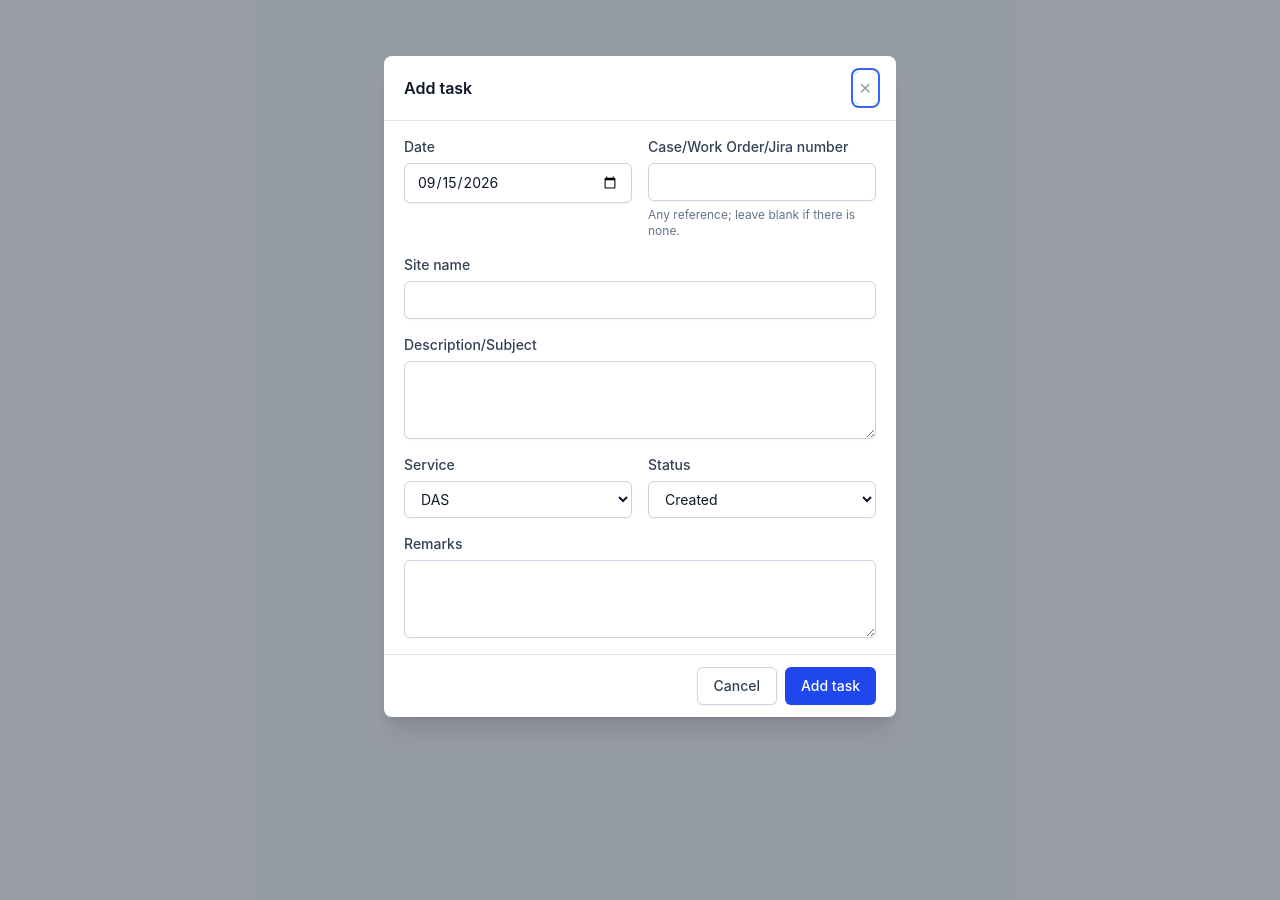
Test: TaskDialog › refuses to submit without a description
What coordinates should you click on to do the following:
click the button "Add task"
I would click on:
 (830, 686)
Its box is [785, 667, 876, 705].
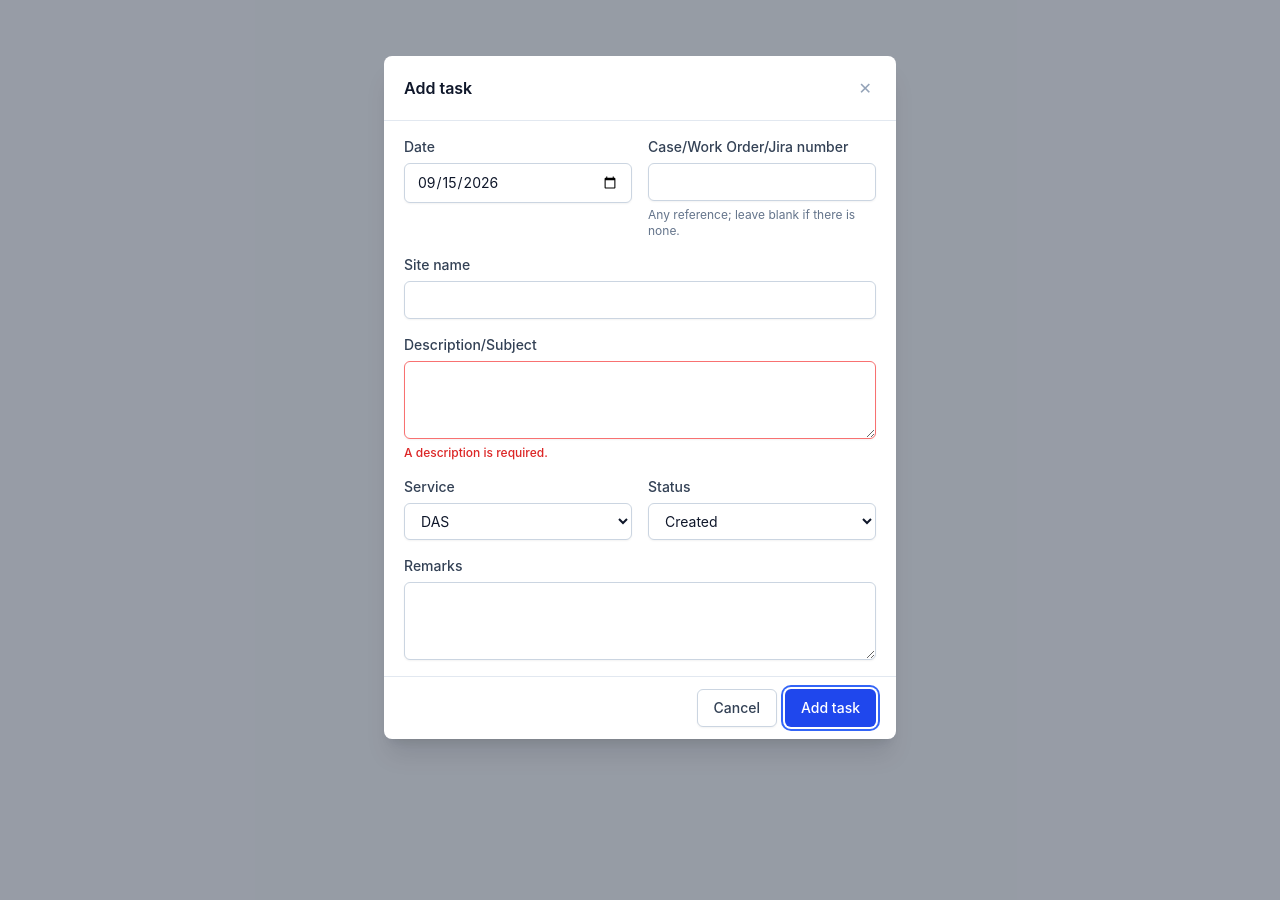
Expected: the text "A description is required." is shown, [404, 445, 548, 460]
